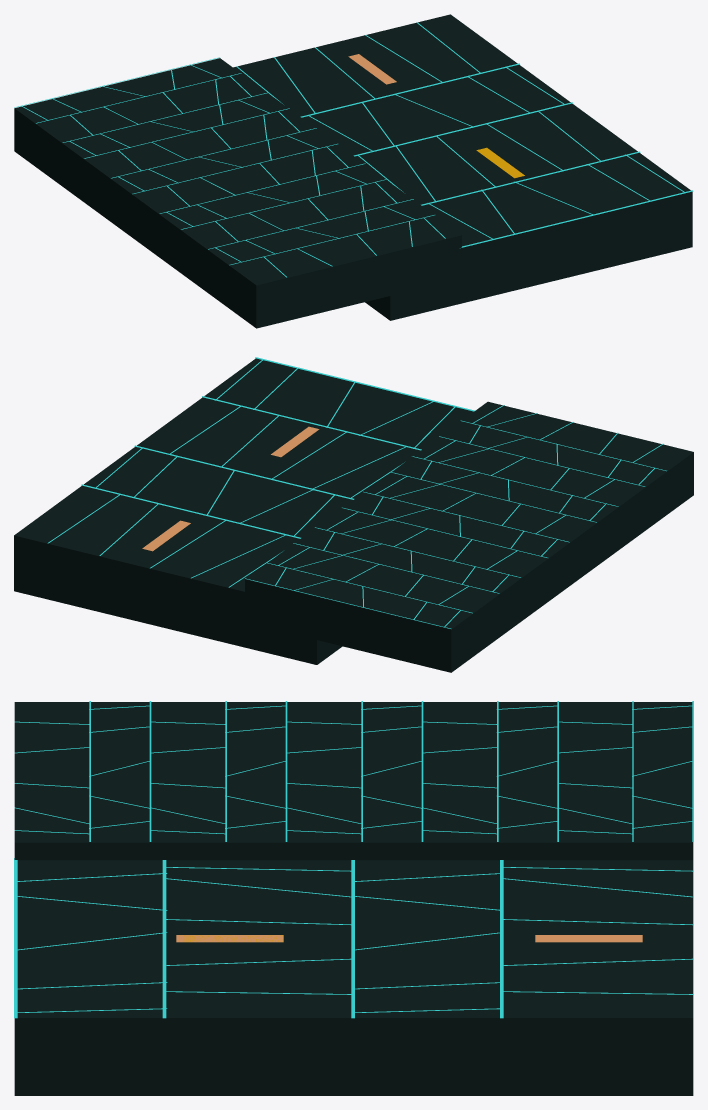
The model's file is road.fbx.
3 renders of one model, top to bottom at view 1: azimuth 30°, elevation 25°; view 2: azimuth 150°, elevation 25°; view 3: azimuth 270°, elevation 25°, orthographic. The views are drawn at different scales.
Parts seen in each view (by area): view 1: Plane; view 2: Plane; view 3: Plane.
Part boxes in pixels (x1=…): Plane: x1=14, y1=14, x2=693, y2=328; Plane: x1=14, y1=357, x2=693, y2=672; Plane: x1=14, y1=701, x2=693, y2=1095.
Bounding box in the file's own units: 1330 × 200 × 1278.
